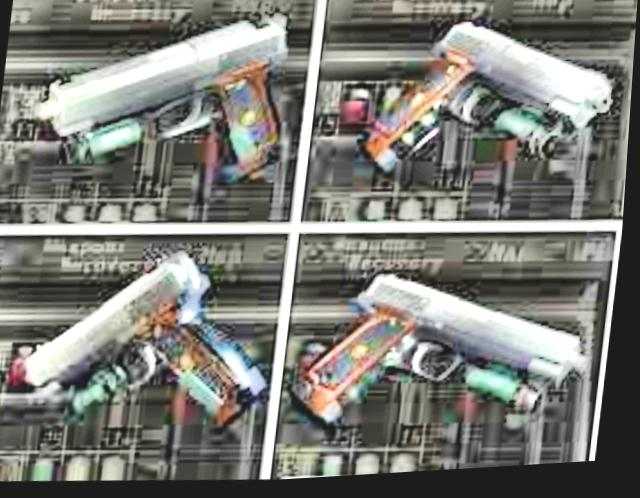pistol: (17, 234, 282, 453), (28, 0, 305, 198), (292, 262, 601, 439), (347, 11, 623, 197)
